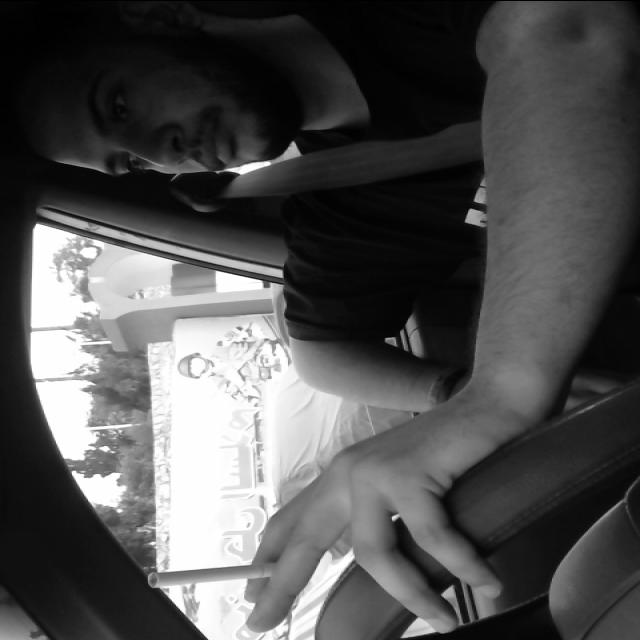smoking: (148, 562, 302, 589)
